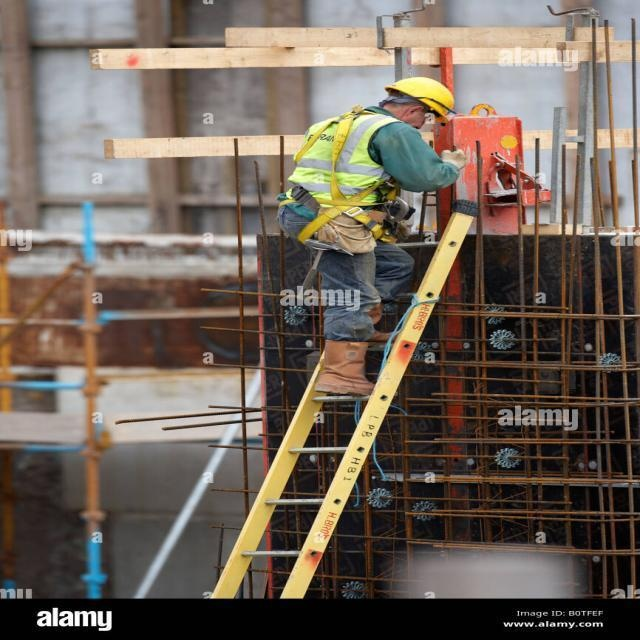Arnes_seguridad: (281, 106, 406, 246)
